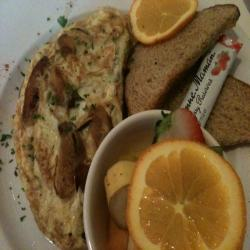bread: (128, 5, 250, 156)
omelette: (21, 10, 131, 244)
